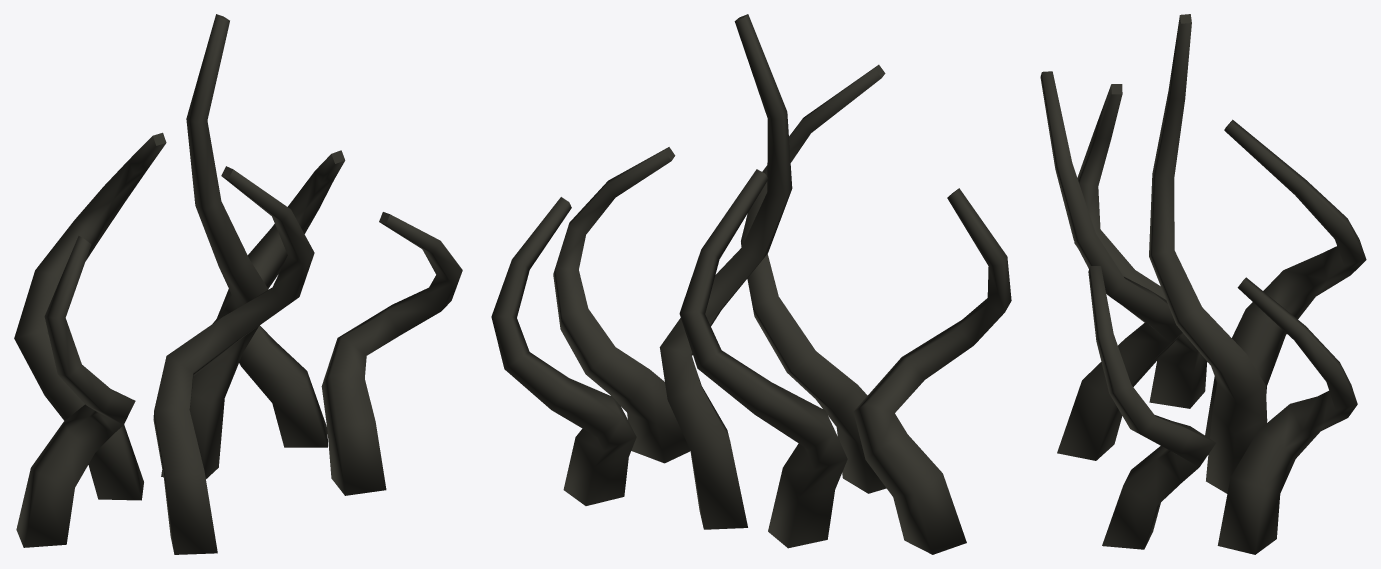
File: usk_Grass-iw6l7gqcdQ.glb
3 views of the same model, side by side, from view 1: azimuth 30°, elevation 25°; view 2: azimuth 150°, elevation 25°; view 3: azimuth 270°, elevation 25° (orthographic). The views are drawn at different scales.
Visible parts, largest first — view 1: Grass_3; view 2: Grass_3; view 3: Grass_3.
Part boxes in pixels (x1,y1,x2,y2): Grass_3: [14, 14, 462, 554]; Grass_3: [491, 14, 1011, 554]; Grass_3: [1040, 14, 1366, 554].
Bounding box in the file's own units: 2.23 × 2.38 × 1.49.
1 material, 1 textured.
